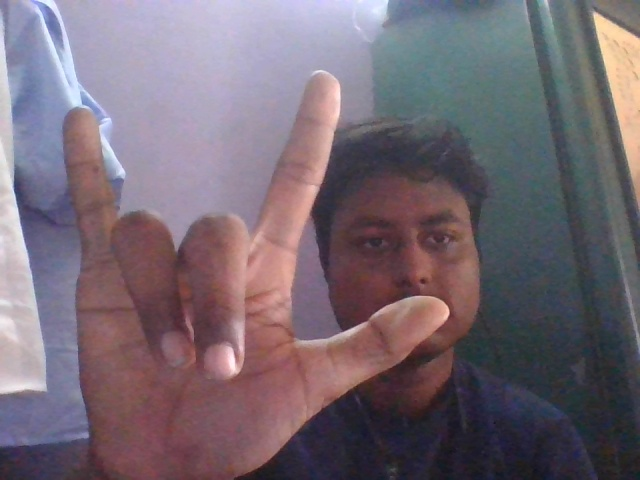iloveyou: (50, 63, 453, 480)
